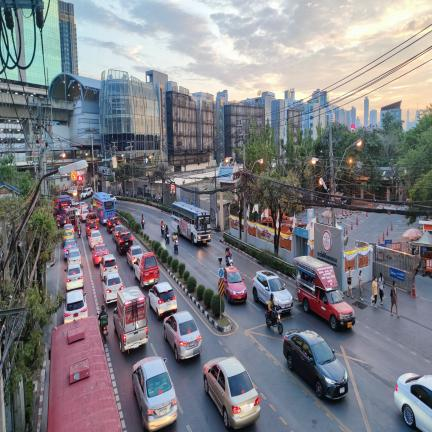bus: (47, 317, 124, 432), (172, 202, 211, 243), (92, 192, 115, 224), (116, 391, 116, 393), (116, 389, 116, 389), (116, 389, 116, 390)
car: (283, 330, 348, 399), (203, 357, 260, 429), (132, 357, 177, 431), (394, 373, 432, 432), (164, 311, 202, 362), (252, 270, 293, 313), (148, 282, 177, 320), (134, 252, 160, 288), (64, 289, 88, 324), (102, 272, 124, 303), (64, 263, 83, 291), (100, 254, 118, 278), (116, 230, 133, 255), (126, 246, 143, 269), (92, 243, 109, 266), (88, 230, 103, 251), (63, 238, 77, 260), (111, 224, 125, 242), (67, 248, 82, 264), (106, 216, 120, 233), (86, 207, 99, 225), (86, 220, 98, 237), (79, 208, 89, 222), (63, 223, 74, 233), (340, 197, 352, 205)
human: (390, 281, 400, 317), (267, 293, 276, 323), (98, 304, 108, 330), (371, 276, 378, 307), (378, 273, 384, 305), (347, 267, 353, 298), (98, 304, 108, 321), (358, 270, 363, 301), (225, 247, 231, 266), (160, 220, 164, 235), (172, 232, 178, 241), (77, 222, 82, 231), (165, 224, 169, 235), (101, 330, 101, 331)
motorbike: (265, 309, 283, 334), (100, 314, 108, 344), (226, 253, 233, 267), (164, 230, 170, 244), (173, 239, 178, 253), (141, 219, 145, 229), (161, 225, 164, 236), (78, 228, 81, 237), (97, 314, 99, 315)
pickup: (293, 256, 355, 330)
taxi: (223, 266, 247, 303), (63, 230, 74, 246)
truck: (113, 286, 148, 352)
